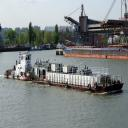tugboat: (5, 51, 35, 84)
